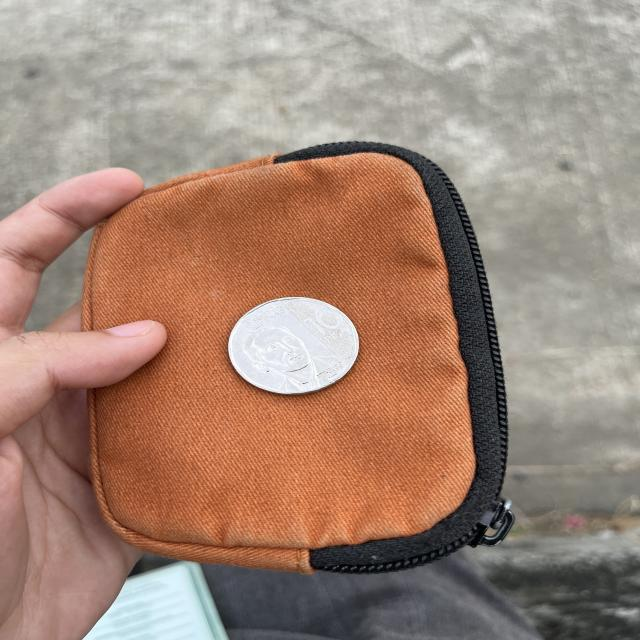10_New_Front: (299, 304, 352, 344)
